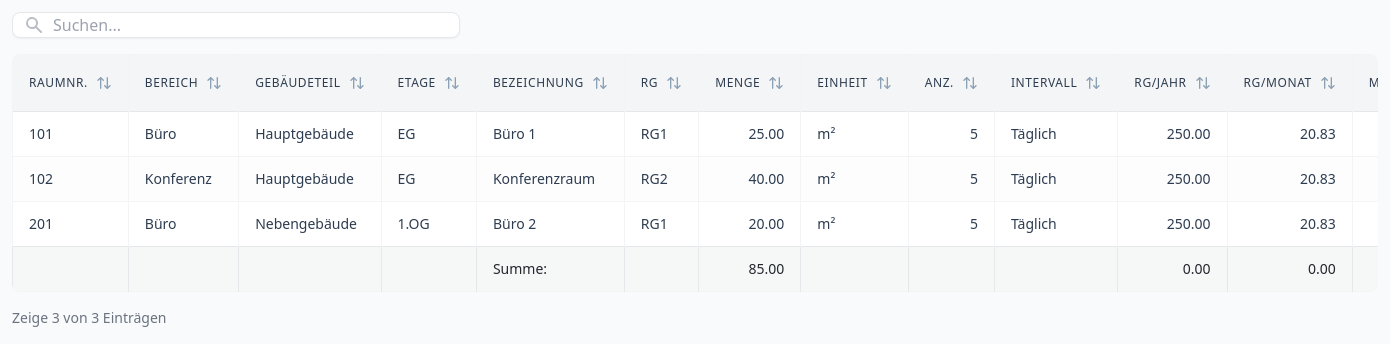
RaumbuchTable Component › Sortiert die Tabelle beim Klicken auf Spaltenüberschriften
Note: Klicke auf die Spaltenüberschrift "Bereich"
Click the text "Bereich". click: [172, 83]
box: x1=145 y1=75 x2=198 y2=91
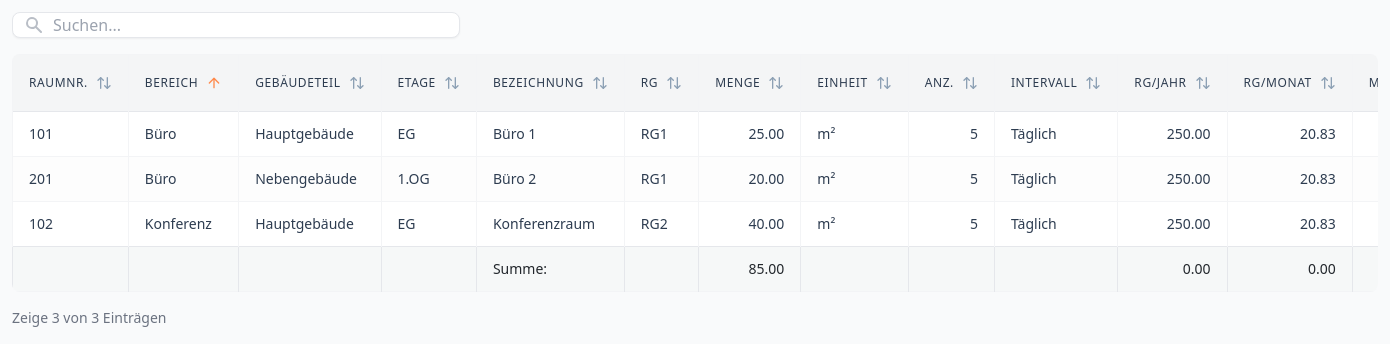
Expected: the cell "Büro" next to "101" is shown, x1=145 y1=124 x2=176 y2=143
Result: the cell "Büro" next to "201" is shown at x1=145 y1=169 x2=176 y2=188
Note: Klicke erneut auf die Spaltenüberschrift für absteigende Sortierung
Click the text "Bereich". click: [172, 83]
box: x1=145 y1=75 x2=198 y2=91
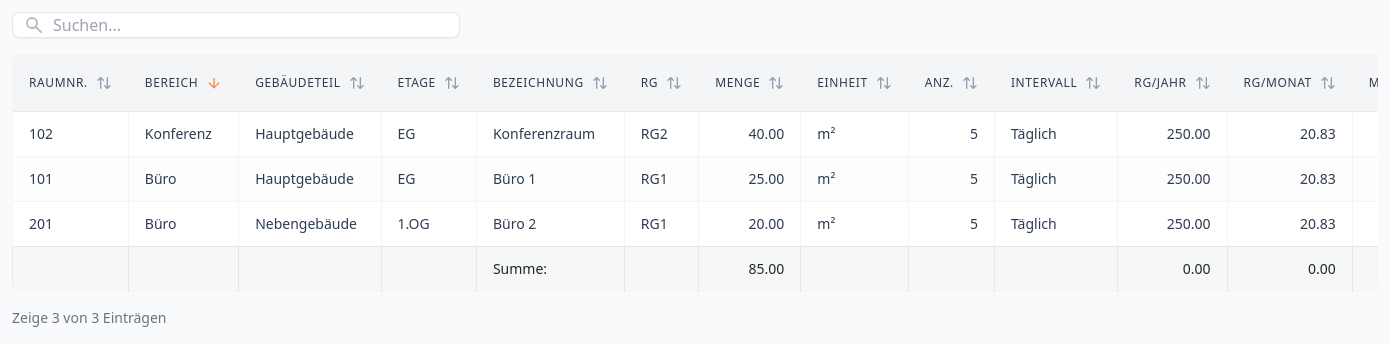
Result: the cell "Konferenz" is shown at x1=128 y1=112 x2=239 y2=156
